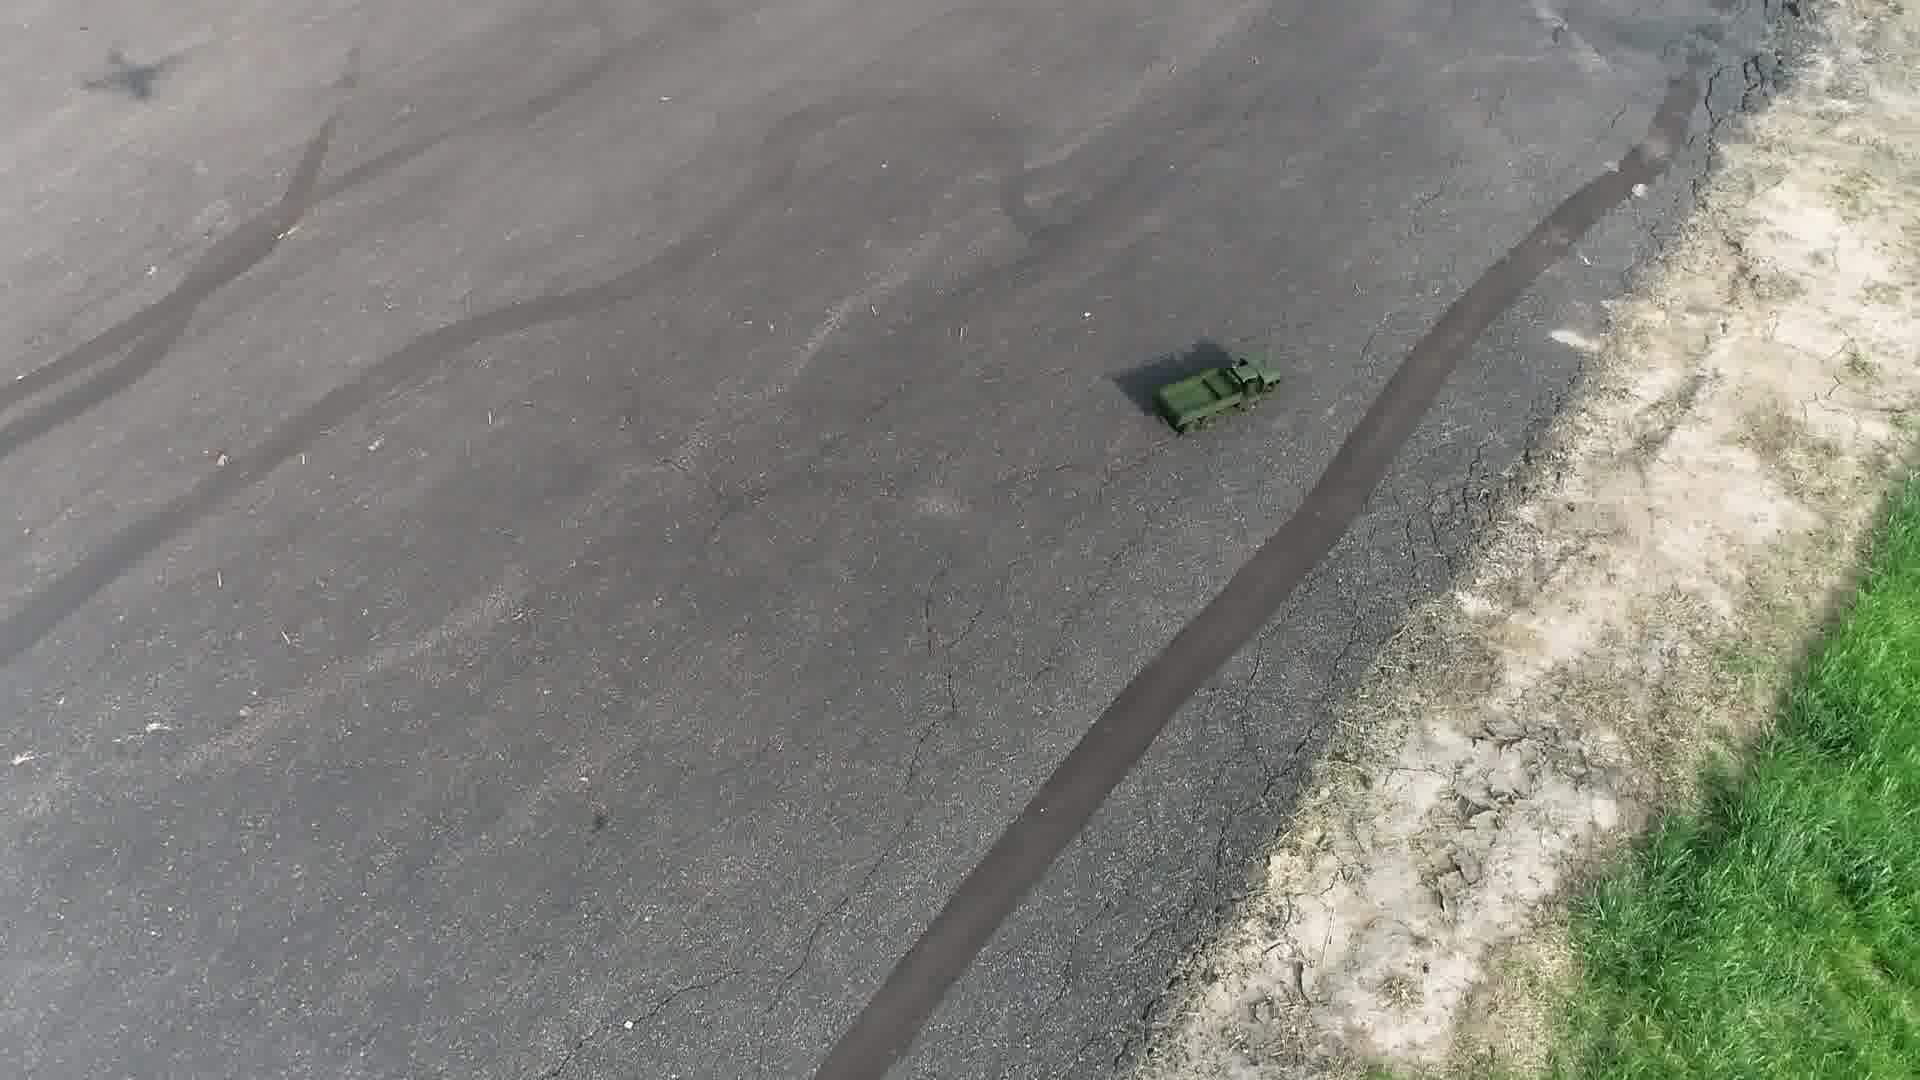transporter9: (1139, 342, 1290, 442)
